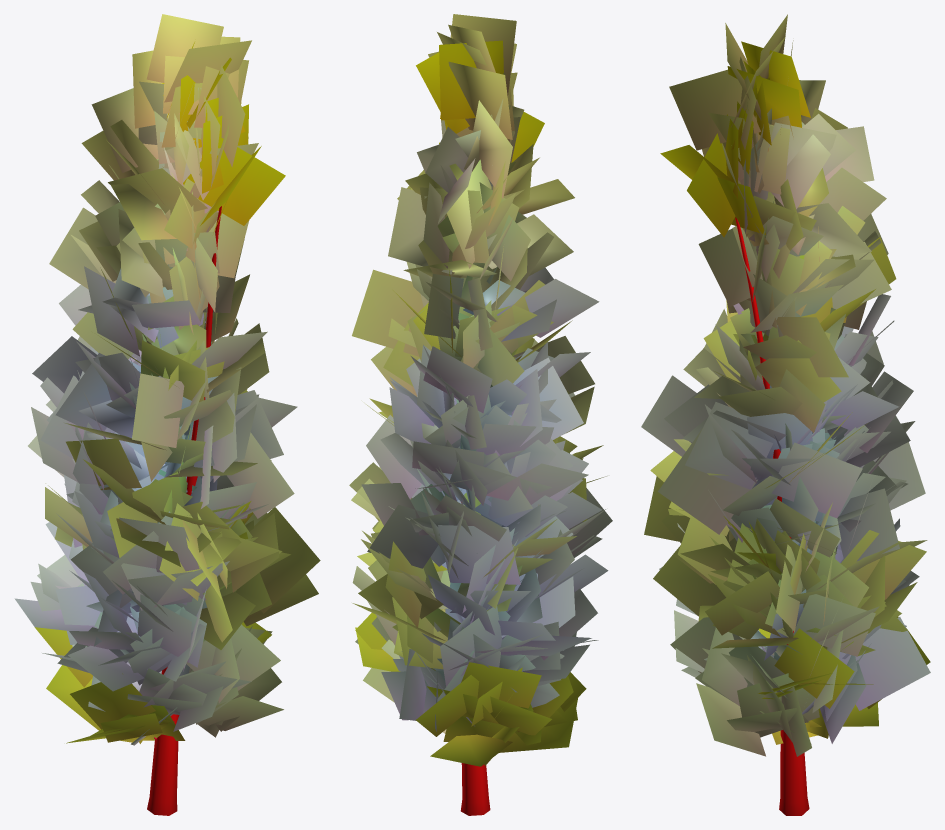
File: poplar_b_lod1.glb
3 renders of one model, left to right at view 1: azimuth 30°, elevation 25°; view 2: azimuth 150°, elevation 25°; view 3: azimuth 270°, elevation 25°, orthographic. The views are drawn at different scales.
Visible parts, largest first — view 1: poplar_b_lod1; view 2: poplar_b_lod1; view 3: poplar_b_lod1.
Boxes of the visible parts, x1,y1,x2,y2 form: poplar_b_lod1: (14, 14, 320, 815); poplar_b_lod1: (349, 14, 612, 815); poplar_b_lod1: (641, 14, 930, 815).
Size of the model in its own units: 6.38 by 19.46 by 6.43.
